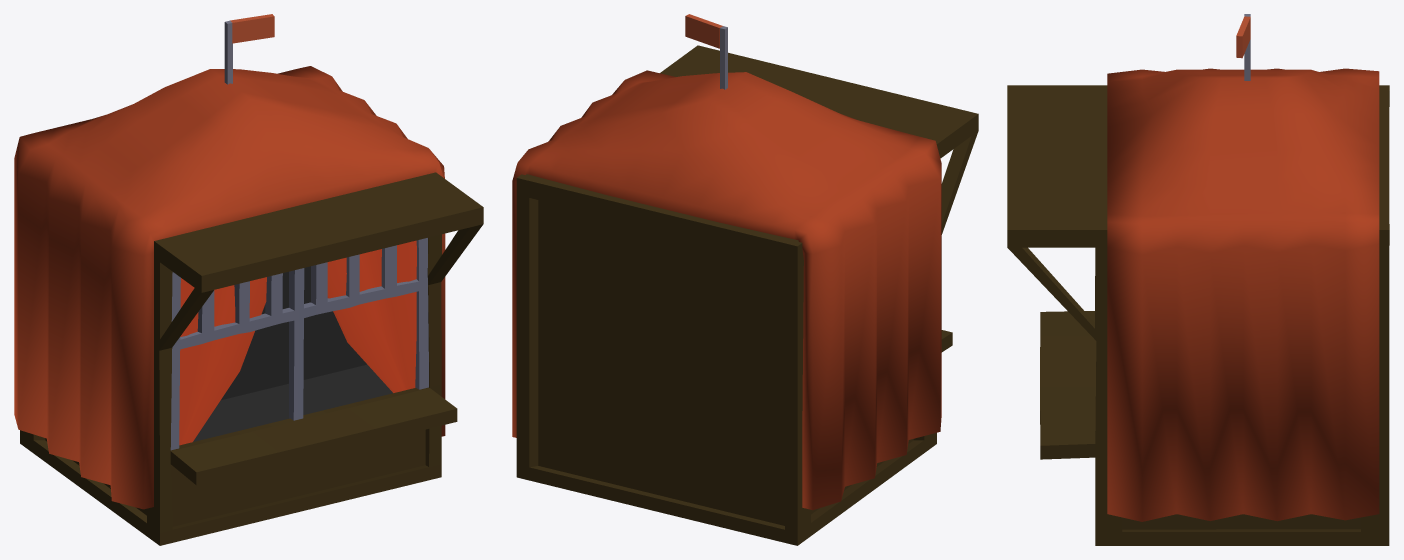
The model's file is ticket booth02.fbx.
3 views of the same model, side by side, from view 1: azimuth 30°, elevation 25°; view 2: azimuth 150°, elevation 25°; view 3: azimuth 270°, elevation 25° (orthographic). The views are drawn at different scales.
Parts seen in each view (by area): view 1: verhoi 02, lippukoju_placeholder.001, verhoja 01, Plane, kalterit, lippu, lippu tanko; view 2: lippukoju_placeholder.001, verhoi 02, lippu; view 3: verhoi 02, lippukoju_placeholder.001, lippu.
Boxes of the visible parts, box(x1,y1,x2,y2) form: verhoi 02: box(14, 66, 445, 509); lippukoju_placeholder.001: box(20, 172, 483, 545); verhoja 01: box(179, 240, 416, 445); Plane: box(193, 266, 392, 441); kalterit: box(170, 238, 428, 450); lippu: box(230, 14, 274, 43); lippu tanko: box(224, 20, 232, 84); lippukoju_placeholder.001: box(516, 45, 978, 545); verhoi 02: box(512, 70, 941, 510); lippu: box(685, 14, 723, 48); verhoi 02: box(1107, 68, 1379, 521); lippukoju_placeholder.001: box(1007, 85, 1389, 545); lippu: box(1236, 16, 1250, 58).
Size of the model in its own units: 376 by 474 by 356.
